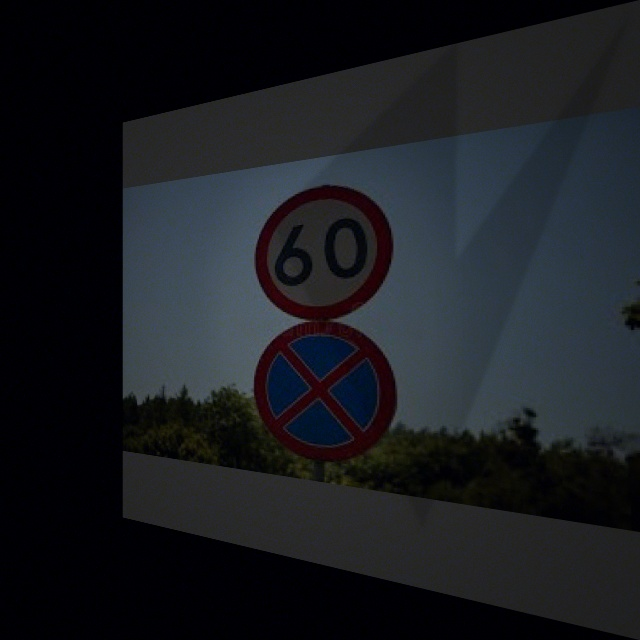Speed_Limit_60: (258, 177, 390, 320)
